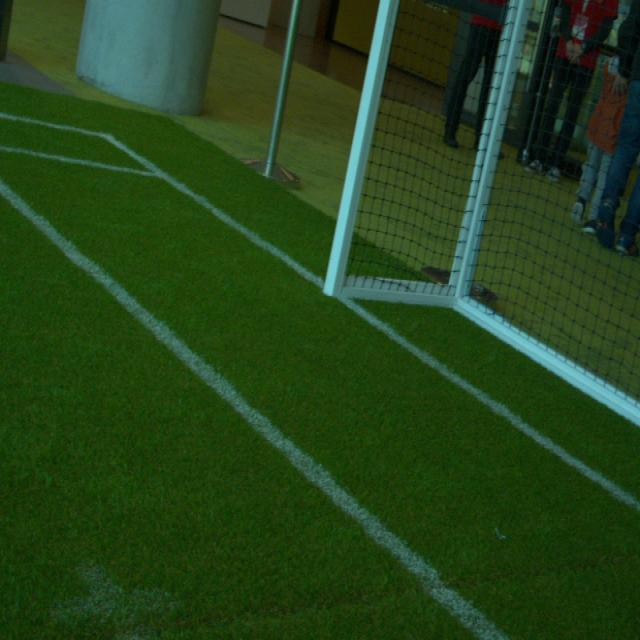goalpost: (322, 0, 399, 296)
